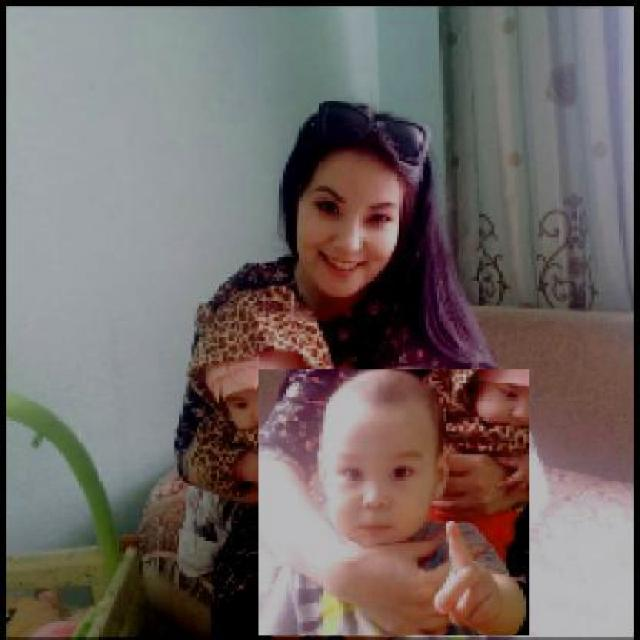child: (257, 369, 529, 637), (184, 282, 344, 518)
